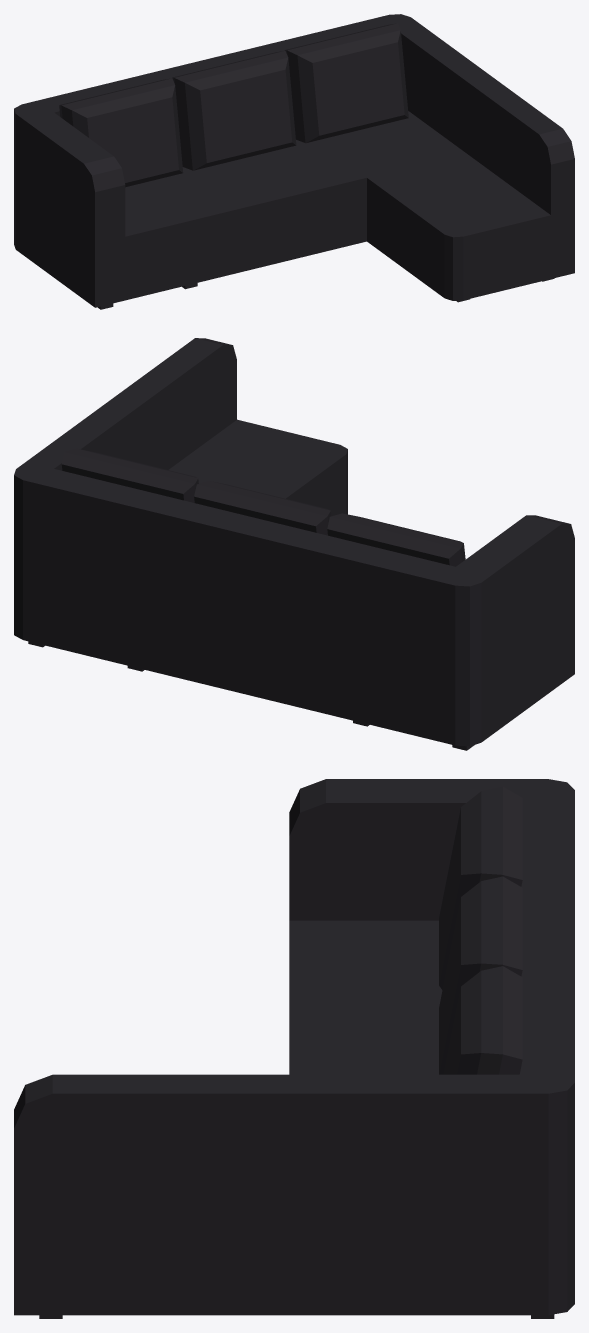
File: Master Sofa.fbx
The picture shows the model from 3 angles, top to bottom: view 1: azimuth 30°, elevation 25°; view 2: azimuth 150°, elevation 25°; view 3: azimuth 270°, elevation 25°; orthographic projection. The views are drawn at different scales.
Visible parts, largest first — view 1: Master Sofa; view 2: Master Sofa; view 3: Master Sofa.
Boxes of the visible parts, x1,y1,x2,y2 form: Master Sofa: (14,14,574,309); Master Sofa: (14,338,574,750); Master Sofa: (14,779,574,1318).
Size of the model in its own units: 332 by 124 by 250.
